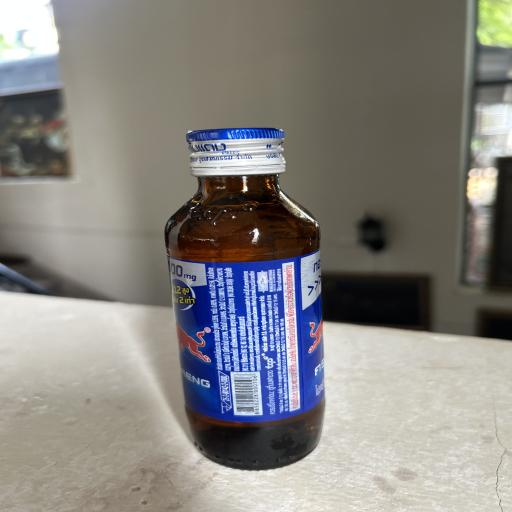bo_huc: (162, 126, 328, 474)
